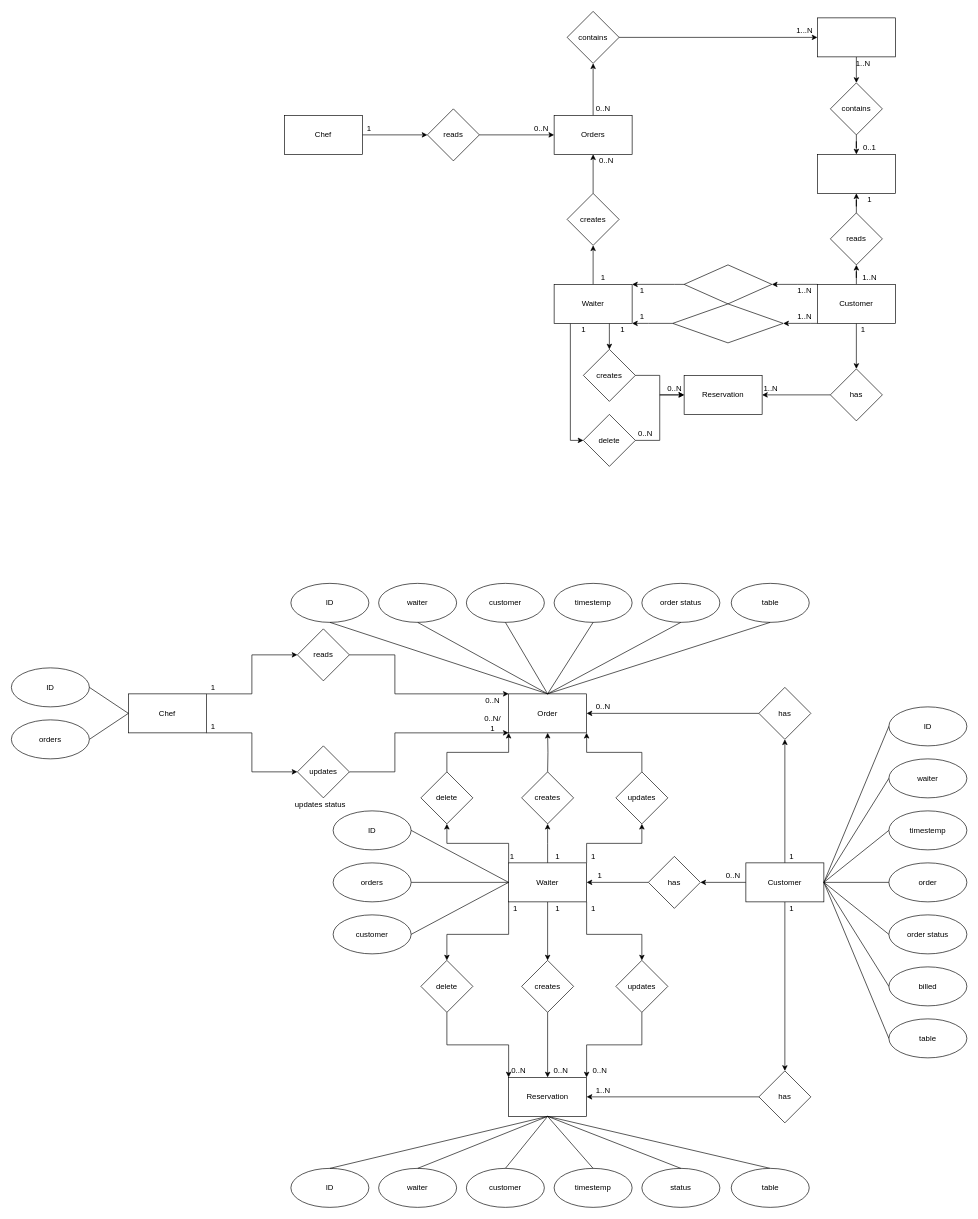
Some shapes in this 978 by 1219 pixel diagram are drawn without their labels. The shapes that lost their labels are listed below. From the top down, each one's centre as x and y in pixels, then its label:
At [856,37]: "Meals".
At [856,173]: "Menu".
At [727,284]: "orders meals trough".
At [727,323]: "creates reservation request".
